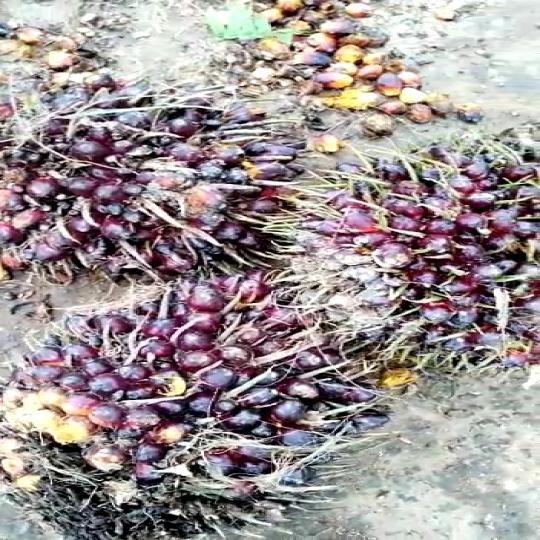kurang masak: (0, 269, 393, 540), (0, 73, 303, 314), (301, 120, 540, 384)
